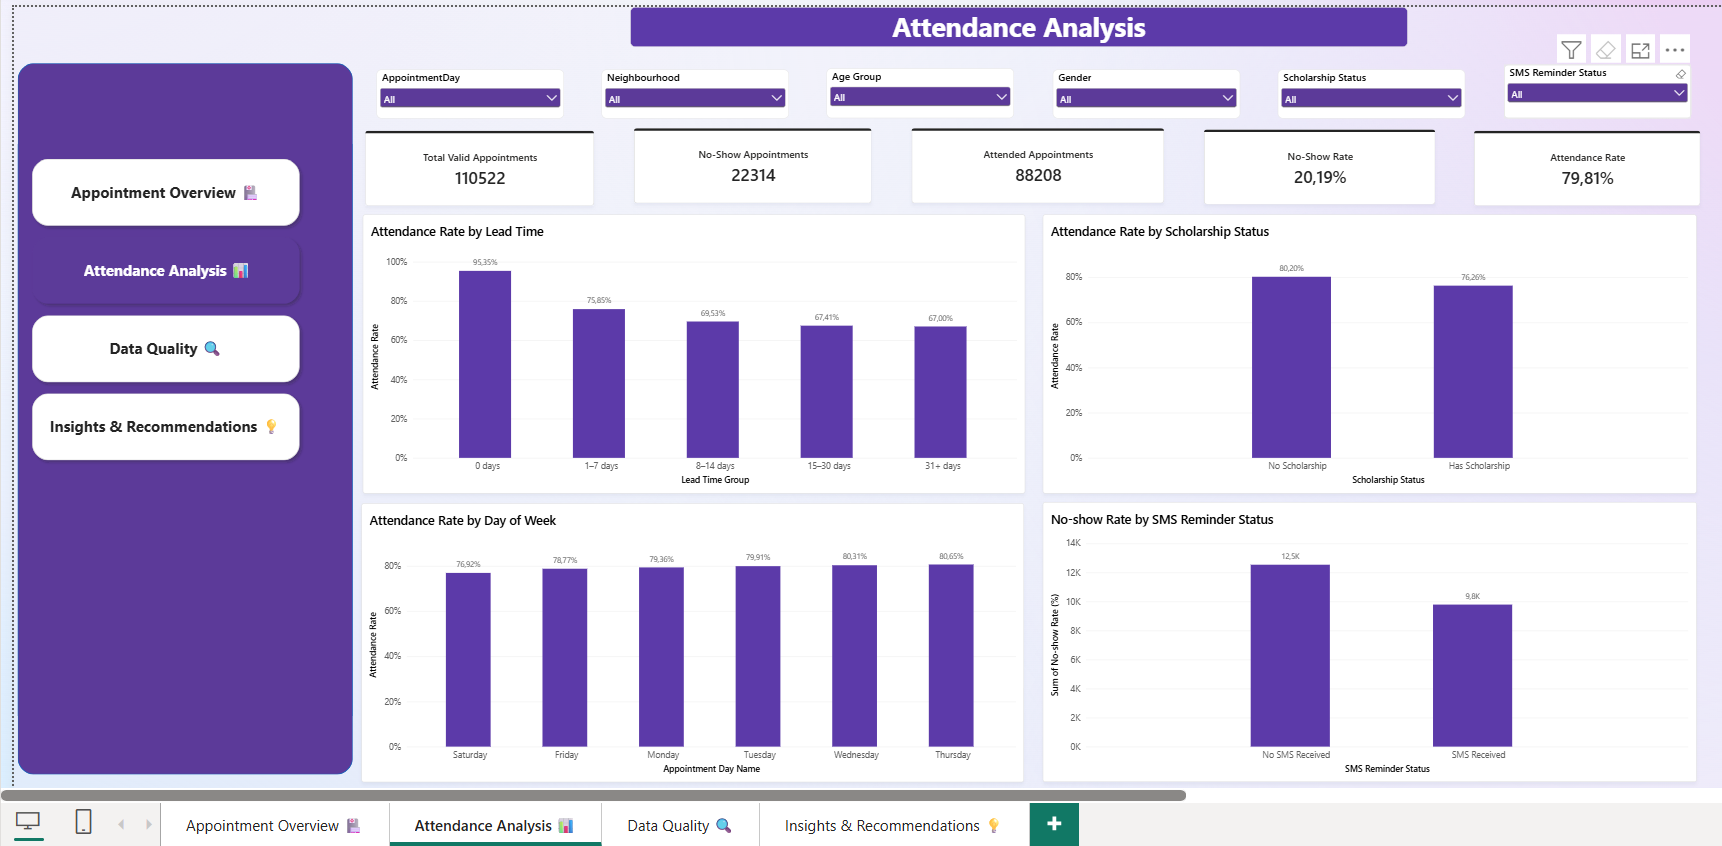

Layout of this report page (visuals, bound fields, positions):
{"tool":"powerbi","page":{"name":"Attendance Analysis 📊","canvas":[4000,4000],"ordinal":1},"visuals":[{"type":"shape","box":[6,90,536,1138],"z":0,"group":"g1"},{"type":"clusteredColumnChart","title":"Attendance Rate by Lead Time","fields":{"Category":["medical_appointments cleaned_medical_appointments.Lead Time Group"],"Y":["medical_appointments cleaned_medical_appointments.Attendance Rate"]},"box":[558,332,1060,446],"z":0},{"type":"clusteredColumnChart","title":"Attendance Rate by Day of Week","fields":{"Category":["medical_appointments cleaned_medical_appointments.Appointment Day Name"],"Y":["medical_appointments cleaned_medical_appointments.Attendance Rate"]},"box":[556,794,1060,446],"z":1000},{"type":"clusteredColumnChart","title":"Attendance Rate by Scholarship Status","fields":{"Category":["medical_appointments cleaned_medical_appointments.Scholarship Status"],"Y":["medical_appointments cleaned_medical_appointments.Attendance Rate"]},"box":[1646,332,1046,446],"z":2000},{"type":"clusteredColumnChart","title":"No-show Rate by SMS Reminder Status","fields":{"Category":["medical_appointments cleaned_medical_appointments.SMS Reminder Status"],"Y":["Sum(medical_appointments cleaned_medical_appointments.No-show Rate (%))"]},"box":[1646,792,1046,448],"z":3000},{"type":"cardVisual","fields":{"Data":["medical_appointments cleaned_medical_appointments.Total Valid Appointments"]},"box":[562,197.6,366,120],"z":4000},{"type":"cardVisual","fields":{"Data":["medical_appointments cleaned_medical_appointments.Missed Appointments"]},"box":[991.7,193.6,380,120],"z":5000},{"type":"cardVisual","fields":{"Data":["medical_appointments cleaned_medical_appointments.Attended Appointments"]},"box":[1435.4,193.6,404,120],"z":6000},{"type":"cardVisual","fields":{"Data":["medical_appointments cleaned_medical_appointments.No-Show Rate"]},"box":[1903.1,195.6,370,120],"z":7000},{"type":"cardVisual","fields":{"Data":["medical_appointments cleaned_medical_appointments.Attendance Rate"]},"box":[2336,198,362,120],"z":8000},{"type":"slicer","fields":{"Values":["medical_appointments cleaned_medical_appointments.AppointmentDay"]},"box":[580,100,300,78],"z":9000},{"type":"slicer","fields":{"Values":["medical_appointments cleaned_medical_appointments.Neighbourhood"]},"box":[940,100,300,78],"z":10000},{"type":"slicer","fields":{"Values":["medical_appointments cleaned_medical_appointments.Age Group"]},"box":[1300,98,300,80],"z":11000},{"type":"slicer","fields":{"Values":["medical_appointments cleaned_medical_appointments.Gender"]},"box":[1662,100,300,78],"z":12000},{"type":"slicer","fields":{"Values":["medical_appointments cleaned_medical_appointments.Scholarship Status"]},"box":[2022,100,300,78],"z":13000},{"type":"slicer","fields":{"Values":["medical_appointments cleaned_medical_appointments.SMS Reminder Status"]},"box":[2384,92,300,86],"z":14000},{"type":"textbox","box":[986,0,1244,64],"z":15000},{"type":"group","id":"g1","title":"Group 2","box":[6,90,536,1138],"z":20501,"group":"g2"},{"type":"group","id":"g2","title":"Group 1","box":[6,90,536,1138],"z":21000},{"type":"pageNavigator","box":[21,234,446,500],"z":21001,"group":"g1"}]}

Visuals, with their boxes on the page's 4000x4000 design canvas (x1, y1, x2, y2). These are canvas units, not pixel positions in the 1722x846 screenshot, which may show the page scaled, cropped or inside an application window:
shape: bbox=[6, 90, 542, 1228]
"Attendance Rate by Lead Time" clusteredColumnChart: bbox=[558, 332, 1618, 778]
"Attendance Rate by Day of Week" clusteredColumnChart: bbox=[556, 794, 1616, 1240]
"Attendance Rate by Scholarship Status" clusteredColumnChart: bbox=[1646, 332, 2692, 778]
"No-show Rate by SMS Reminder Status" clusteredColumnChart: bbox=[1646, 792, 2692, 1240]
cardVisual - medical_appointments cleaned_medical_appointments.Total Valid Appointments: bbox=[562, 198, 928, 318]
cardVisual - medical_appointments cleaned_medical_appointments.Missed Appointments: bbox=[992, 194, 1372, 314]
cardVisual - medical_appointments cleaned_medical_appointments.Attended Appointments: bbox=[1435, 194, 1839, 314]
cardVisual - medical_appointments cleaned_medical_appointments.No-Show Rate: bbox=[1903, 196, 2273, 316]
cardVisual - medical_appointments cleaned_medical_appointments.Attendance Rate: bbox=[2336, 198, 2698, 318]
slicer - medical_appointments cleaned_medical_appointments.AppointmentDay: bbox=[580, 100, 880, 178]
slicer - medical_appointments cleaned_medical_appointments.Neighbourhood: bbox=[940, 100, 1240, 178]
slicer - medical_appointments cleaned_medical_appointments.Age Group: bbox=[1300, 98, 1600, 178]
slicer - medical_appointments cleaned_medical_appointments.Gender: bbox=[1662, 100, 1962, 178]
slicer - medical_appointments cleaned_medical_appointments.Scholarship Status: bbox=[2022, 100, 2322, 178]
slicer - medical_appointments cleaned_medical_appointments.SMS Reminder Status: bbox=[2384, 92, 2684, 178]
textbox: bbox=[986, 0, 2230, 64]
"Group 2" group: bbox=[6, 90, 542, 1228]
"Group 1" group: bbox=[6, 90, 542, 1228]
pageNavigator: bbox=[21, 234, 467, 734]
